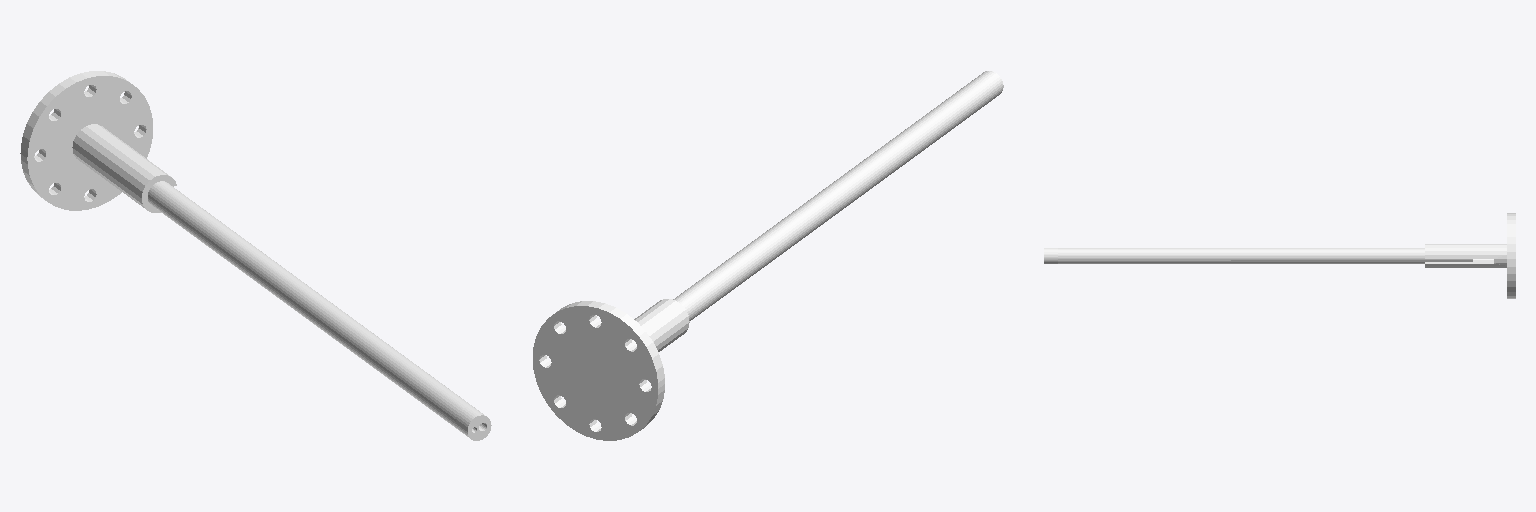
The robot description file, URDF, robot "cr5_robot":
<?xml version="1.0" encoding="utf-8"?>
<!-- This URDF was automatically created by SolidWorks to URDF Exporter! Originally created by [author] ([email redacted]) 
     Commit Version: 1.6.0-1-g15f4949  Build Version: 1.6.7594.29634
     For more information, please see http://wiki.ros.org/sw_urdf_exporter -->
<robot name="cr5_robot">
  <link name="dummy_link" />
  <link name="base_link">
    <inertial>
      <origin xyz="-8.0961E-06 0.0019103 0.028995" rpy="0 0 0" />
      <mass value="0.90882" />
      <inertia
        ixx="0.0014545"
        ixy="4.2968E-08"
        ixz="-1.8199E-07"
        iyy="0.001345"
        iyz="-6.243E-06"
        izz="0.002155" />
    </inertial>
    <visual>
      <origin xyz="0 0 0" rpy="0 0 0" />
      <geometry>
        <mesh filename="package://dobot_description/meshes/cr5/base_link.dae" />
      </geometry>
      <material
        name="">
        <color rgba="0 0 0 1" />
      </material>
    </visual>
    <collision>
      <origin xyz="0 0 0" rpy="0 0 0" />
      <geometry>
        <mesh filename="package://dobot_description/meshes/cr5/base_link.dae" />
      </geometry>
    </collision>
  </link>

  <joint name="dummy_joint" type="fixed">
    <parent link="dummy_link" />
    <child  link="base_link" />
  </joint>


  <link  name="Link1">
    <inertial>
      <origin xyz="-8.7268E-07 -0.0032576 -0.0076748" rpy="0 0 0" />
      <mass value="1.6123" />
      <inertia
        ixx="0.0029122"
        ixy="5.7387E-09"
        ixz="1.9945E-08"
        iyy="0.0028191"
        iyz="0.00044094"
        izz="0.0032836" />
    </inertial>
    <visual>
      <origin xyz="0 0 0" rpy="0 0 0" />
      <geometry>
        <mesh filename="package://dobot_description/meshes/cr5/Link1.dae" />
      </geometry>
      <material
        name="">
        <color rgba="1 1 1 1" />
      </material>
    </visual>
    <collision>
      <origin xyz="0 0 0" rpy="0 0 0" />
      <geometry>
        <mesh filename="package://dobot_description/meshes/cr5/Link1.dae" />
      </geometry>
    </collision>
  </link>

  <joint name="joint1" type="revolute">
    <origin xyz="0 0 0.147" rpy="0 0 0" />
    <parent link="base_link" />
    <child link="Link1" />
    <axis xyz="0 0 1" />
    <limit lower="-3.14" upper="3.14" effort="0" velocity="0" />
  </joint>

  <link name="Link2">
    <inertial>
      <origin xyz="-0.21351 -1.3842E-06 0.14252" rpy="0 0 0" />
      <mass value="5.5186" />
      <inertia
        ixx="0.0085919"
        ixy="7.5552E-07"
        ixz="-7.8922E-07"
        iyy="0.027553"
        iyz="1.4629E-07"
        izz="0.028294" />
    </inertial>
    <visual>
      <origin xyz="0 0 0" rpy="0 0 0" />
      <geometry>
        <mesh filename="package://dobot_description/meshes/cr5/Link2.dae" />
      </geometry>
      <material
        name="">
        <color rgba="1 1 1 1" />
      </material>
    </visual>
    <collision>
      <origin xyz="0 0 0" rpy="0 0 0" />
      <geometry>
        <mesh filename="package://dobot_description/meshes/cr5/Link2.dae" />
      </geometry>
    </collision>
  </link>

  <joint name="joint2" type="revolute">
    <origin xyz="0 0 0" rpy="1.5708 1.5708 0" />
    <parent link="Link1" />
    <child  link="Link2" />
    <axis xyz="0 0 1" />
    <limit lower="-3.14" upper="3.14" effort="0" velocity="0" />
  </joint>

  <link name="Link3">
    <inertial>
      <origin xyz="-0.15231 -1.4079E-07 0.022693" rpy="0 0 0" />
      <mass value="2.8536" />
      <inertia
        ixx="0.0032608"
        ixy="-3.2147E-10"
        ixz="0.00012363"
        iyy="0.0092967"
        iyz="2.9478E-10"
        izz="0.0095552" />
    </inertial>
    <visual>
      <origin xyz="0 0 0" rpy="0 0 0" />
      <geometry>
        <mesh filename="package://dobot_description/meshes/cr5/Link3.dae" />
      </geometry>
      <material
        name="">
        <color rgba="1 1 1 1" />
      </material>
    </visual>
    <collision>
      <origin xyz="0 0 0"  rpy="0 0 0" />
      <geometry>
        <mesh filename="package://dobot_description/meshes/cr5/Link3.dae" />
      </geometry>
    </collision>
  </link>

  <joint name="joint3" type="revolute">
    <origin xyz="-0.427 0 0" rpy="0 0 0" />
    <parent link="Link2" />
    <child link="Link3" />
    <axis  xyz="0 0 1" />
    <limit lower="-2.86"  upper="2.86"  effort="0" velocity="0" />
  </joint>

  <link name="Link4">
    <inertial>
      <origin xyz="-3.2386E-07 -0.002077 -0.0015548" rpy="0 0 0" />
      <mass value="0.67058" />
      <inertia
        ixx="0.00066939"
        ixy="4.1975E-10"
        ixz="-1.0734E-08"
        iyy="0.00065424"
        iyz="0.00011081"
        izz="0.00065365" />
    </inertial>
    <visual>
      <origin xyz="0 0 0" rpy="0 0 0" />
      <geometry>
        <mesh filename="package://dobot_description/meshes/cr5/Link4.dae" />
      </geometry>
      <material name="">
        <color rgba="1 1 1 1" />
      </material>
    </visual>
    <collision>
      <origin xyz="0 0 0" rpy="0 0 0" />
      <geometry>
        <mesh filename="package://dobot_description/meshes/cr5/Link4.dae" />
      </geometry>
    </collision>
  </link>

  <joint name="joint4" type="revolute">
    <origin xyz="-0.357 0 0.141" rpy="0 0 -1.5708" />
    <parent link="Link3" />
    <child link="Link4" />
    <axis xyz="0 0 1" />
    <limit lower="-3.14" upper="3.14" effort="0" velocity="0" />
  </joint>
  <link name="Link5">
    <inertial>
      <origin xyz="-3.7738E-07 -0.0045777 -0.0012971" rpy="0 0 0" />
      <mass value="0.7269" />
      <inertia
        ixx="0.00073069"
        ixy="-5.7806E-09"
        ixz="6.7132E-09"
        iyy="0.00071195"
        iyz="-0.00011926"
        izz="0.00071391" />
    </inertial>
    <visual>
      <origin xyz="0 0 0" rpy="0 0 0" />
      <geometry>
        <mesh filename="package://dobot_description/meshes/cr5/Link5.dae" />
      </geometry>
      <material name="">
        <color rgba="1 1 1 1" />
      </material>
    </visual>
    <collision>
      <origin xyz="0 0 0" rpy="0 0 0" />
      <geometry>
        <mesh filename="package://dobot_description/meshes/cr5/Link5.dae" />
      </geometry>
    </collision>
  </link>

  <joint name="joint5" type="revolute">
    <origin xyz="0 -0.116 0" rpy="1.5708 0 0" />
    <parent link="Link4" />
    <child link="Link5" />
    <axis xyz="0 0 1" />
    <limit lower="-3.14" upper="3.14" effort="0" velocity="0" />
  </joint>

  <link name="Link6">
    <inertial>
      <origin xyz="5.0777E-11 9.3774E-05 -0.019285" rpy="0 0 0" />
      <mass value="0.15789" />
      <inertia
        ixx="7.8045E-05"
        ixy="6.1582E-15"
        ixz="6.2471E-14"
        iyy="7.9168E-05"
        iyz="-1.3822E-07"
        izz="0.00012951" />
    </inertial>
    <visual>
      <origin xyz="0 0 0" rpy="0 0 0" />
      <geometry>
        <mesh filename="package://dobot_description/meshes/cr5/Link6.dae" />
      </geometry>
      <material name="">
        <color rgba="1 1 1 1" />
      </material>
    </visual>
    <collision>
      <origin xyz="0 0 0" rpy="0 0 0" />
      <geometry>
        <mesh filename="package://dobot_description/meshes/cr5/Link6.dae" />
      </geometry>
    </collision>
  </link>

  <joint name="joint6" type="revolute">
    <origin xyz="0 0.105 0"  rpy="-1.5708 0 0" />
    <parent link="Link5" />
    <child link="Link6" />
    <axis xyz="0 0 1" />
    <limit lower="-6.28" upper="6.28" effort="0" velocity="0" />
  </joint>


  <link name="Link_instrument">
   <visual>
      <origin xyz="0 0 0.006" rpy="3.1415 0 0" />
      <geometry>
        <mesh filename="package://dobot_description/meshes/cr5/total_instrument_5.STL" />
      </geometry>
      <material name="">
        <color rgba="1 1 1 1" />
      </material>
    </visual>
    <collision>
      <origin xyz="0 0 0.006" rpy="3.1415 0 0" />
      <geometry>
        <mesh filename="package://dobot_description/meshes/cr5/total_instrument_5.STL" />
      </geometry>
    </collision>
  </link>

  <joint name="joint_instrument" type="fixed">
    <origin xyz="0 0 0"  rpy="0 0 0" />
    <parent link="Link6" />
    <child link="Link_instrument" />
  </joint>



</robot>

--- Render facts (derived) ---
3 views of the same robot in one strip: view 1: azimuth 30°, elevation 25°; view 2: azimuth 150°, elevation 25°; view 3: azimuth 270°, elevation 25° (orthographic).
Robot: cr5_robot — 9 links, 8 joints (6 revolute, 2 fixed); root link dummy_link; default pose: all joints at 0.
Links seen in each view (by area): view 1: Link_instrument; view 2: Link_instrument; view 3: Link_instrument.
Boxes of the visible links, <box> form: Link_instrument: <box>20,71,491,440</box>; Link_instrument: <box>533,71,1003,440</box>; Link_instrument: <box>1044,213,1515,298</box>.
Size in the robot's own frame: 0.063 by 0.343 by 0.0629 metres.
1 mesh visuals loaded from 8 distinct referenced files (1 binary STL); not drawn: 7 (reference not matched to a file when rendering).